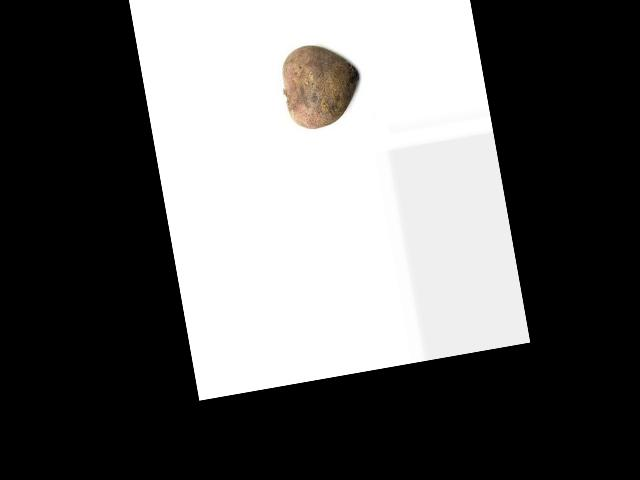beet: (277, 37, 366, 133)
